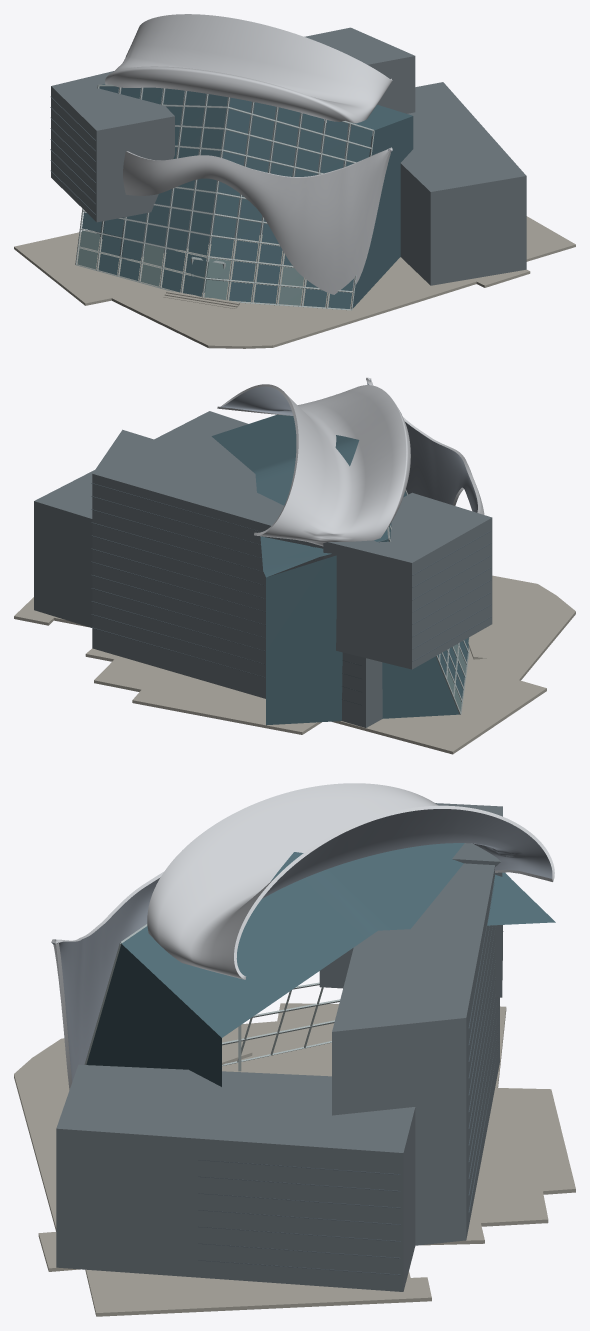
Rendered from art-gallery-of-alberta-near.glb.
3 renders of one model, top to bottom at view 1: azimuth 30°, elevation 25°; view 2: azimuth 150°, elevation 25°; view 3: azimuth 270°, elevation 25°, orthographic. The views are drawn at different scales.
Visible parts, largest first — view 1: art-gallery-of-alberta-0-zinc, art-gallery-of-alberta-0-steel, art-gallery-of-alberta-0-glass, art-gallery-of-alberta-0-stone, art-gallery-of-alberta-0-frame, art-gallery-of-alberta-0-glow, art-gallery-of-alberta-0-joint; view 2: art-gallery-of-alberta-0-zinc, art-gallery-of-alberta-0-glass, art-gallery-of-alberta-0-stone, art-gallery-of-alberta-0-steel, art-gallery-of-alberta-0-steelUnder, art-gallery-of-alberta-0-joint, art-gallery-of-alberta-0-frame; view 3: art-gallery-of-alberta-0-zinc, art-gallery-of-alberta-0-glass, art-gallery-of-alberta-0-stone, art-gallery-of-alberta-0-steel, art-gallery-of-alberta-0-steelUnder, art-gallery-of-alberta-0-joint, art-gallery-of-alberta-0-frame.
Part boxes in pixels (left/top/right/bottom): art-gallery-of-alberta-0-zinc: left=51, top=27, right=526, bottom=285; art-gallery-of-alberta-0-steel: left=105, top=14, right=392, bottom=294; art-gallery-of-alberta-0-glass: left=82, top=84, right=413, bottom=308; art-gallery-of-alberta-0-stone: left=14, top=216, right=575, bottom=348; art-gallery-of-alberta-0-frame: left=75, top=84, right=374, bottom=310; art-gallery-of-alberta-0-glow: left=77, top=230, right=303, bottom=305; art-gallery-of-alberta-0-joint: left=50, top=96, right=95, bottom=214; art-gallery-of-alberta-0-zinc: left=34, top=411, right=492, bottom=727; art-gallery-of-alberta-0-glass: left=211, top=414, right=468, bottom=725; art-gallery-of-alberta-0-stone: left=14, top=575, right=575, bottom=754; art-gallery-of-alberta-0-steel: left=217, top=377, right=484, bottom=546; art-gallery-of-alberta-0-steelUnder: left=219, top=380, right=477, bottom=532; art-gallery-of-alberta-0-joint: left=91, top=483, right=491, bottom=705; art-gallery-of-alberta-0-frame: left=387, top=489, right=469, bottom=714; art-gallery-of-alberta-0-zinc: left=56, top=803, right=502, bottom=1291; art-gallery-of-alberta-0-glass: left=86, top=843, right=555, bottom=1086; art-gallery-of-alberta-0-stone: left=14, top=1003, right=575, bottom=1316; art-gallery-of-alberta-0-steel: left=51, top=783, right=554, bottom=1089; art-gallery-of-alberta-0-steelUnder: left=51, top=809, right=552, bottom=1081; art-gallery-of-alberta-0-joint: left=198, top=882, right=503, bottom=1275; art-gallery-of-alberta-0-frame: left=84, top=924, right=340, bottom=1071.
Size of the model in its own units: 63.62 by 31 by 48.75.
